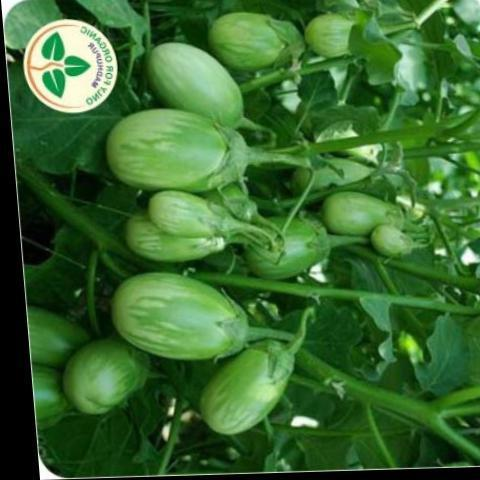eggplant: (25, 256, 296, 444), (104, 13, 265, 281), (186, 0, 356, 79), (277, 172, 413, 260)
